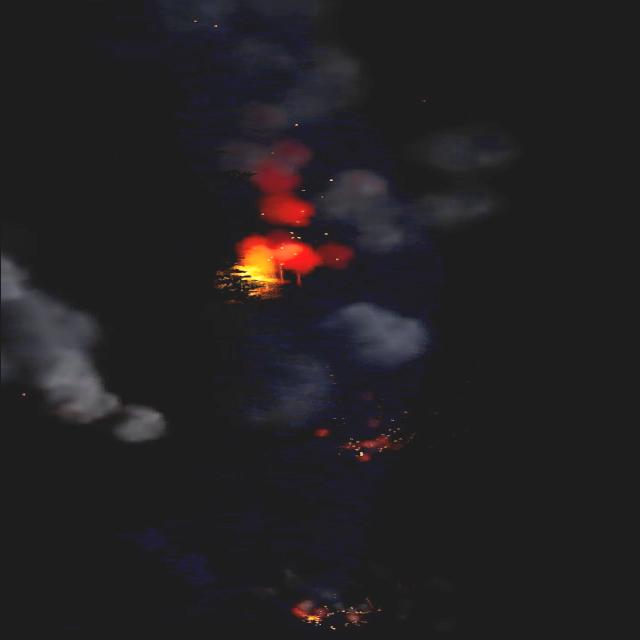fire: (232, 257, 282, 292), (340, 438, 388, 460), (290, 606, 322, 626), (342, 606, 372, 626)
smoke: (232, 42, 504, 276), (0, 232, 167, 438), (274, 306, 432, 456), (289, 599, 313, 617)
